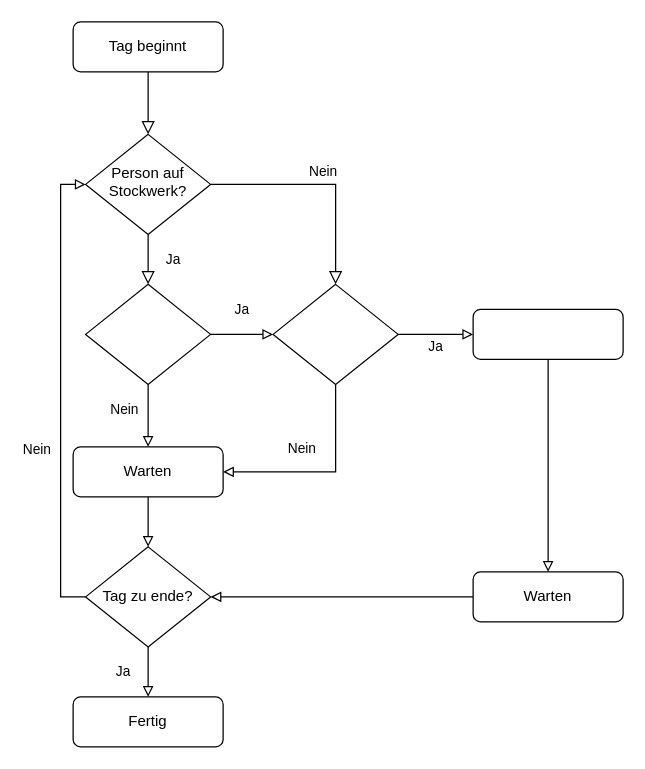
The diagram is 645 pixels wide and 769 high, and some of its shapes have lost their labels. The box of each missing label's shape, as (x1, y1, x2, y2) in pixels:
Hoch/Runter fahren: (472, 308, 623, 359)
Kapazität voll?: (84, 283, 211, 384)
Ruft jemand den Aufzug?: (272, 283, 398, 384)
